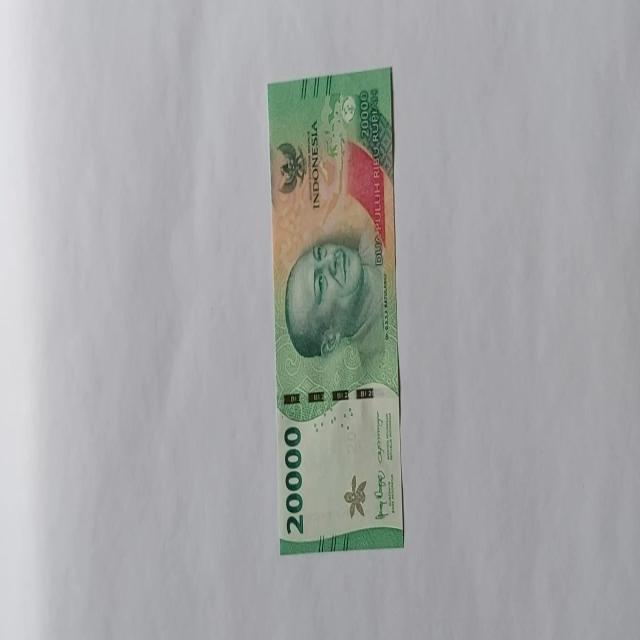dua puluh ribu rupiah: (267, 66, 404, 554), (284, 226, 386, 368)
